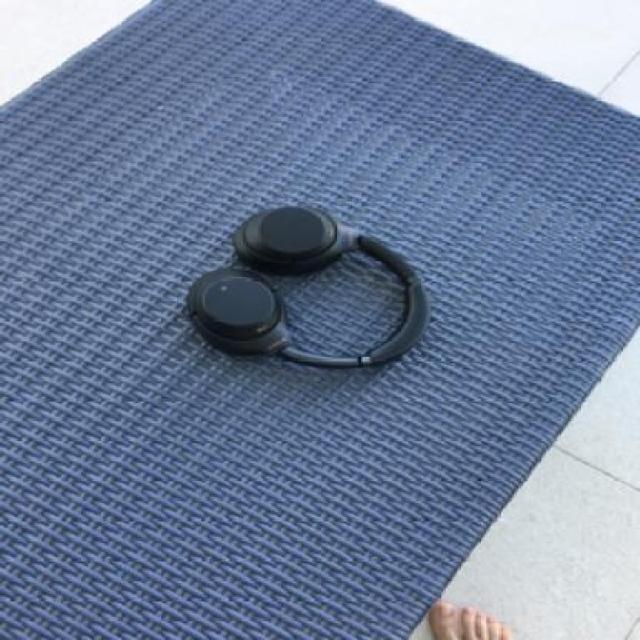earphone: (125, 98, 485, 437)
